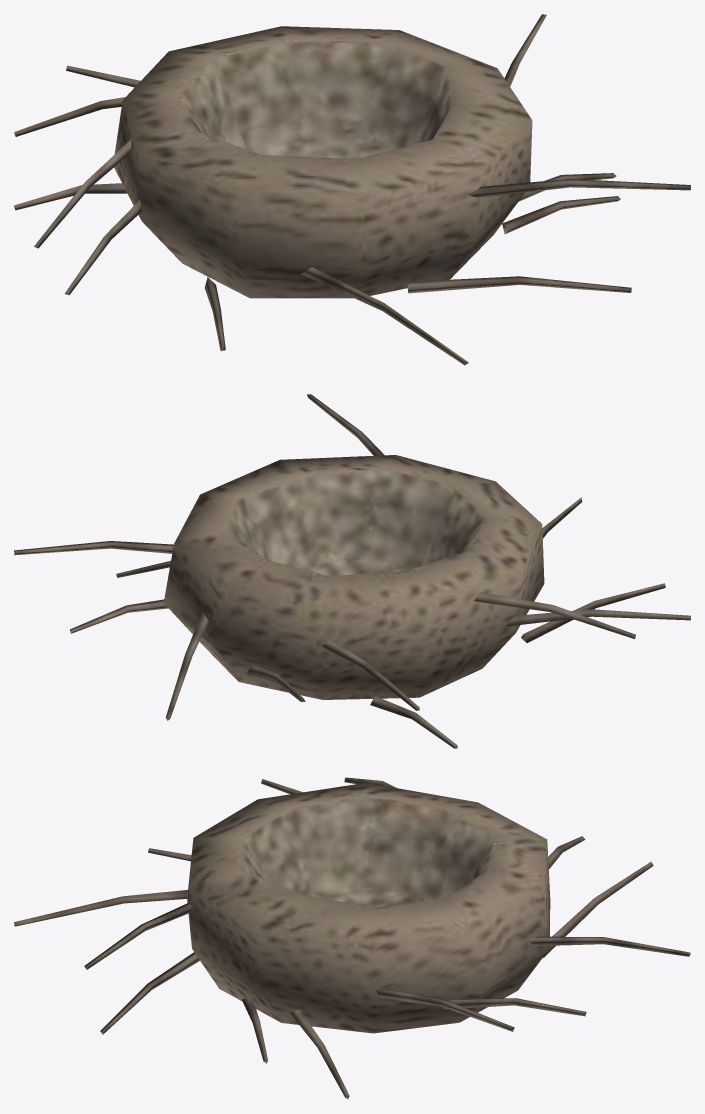
File: ninho_taca.glb
The picture shows the model from 3 angles, top to bottom: view 1: azimuth 30°, elevation 25°; view 2: azimuth 150°, elevation 25°; view 3: azimuth 270°, elevation 25°; orthographic projection. The views are drawn at different scales.
Visible parts, largest first — view 1: ninho_taca; view 2: ninho_taca; view 3: ninho_taca.
Boxes of the visible parts, bbox=[...] form: ninho_taca: bbox=[14, 14, 690, 365]; ninho_taca: bbox=[14, 394, 690, 748]; ninho_taca: bbox=[14, 777, 690, 1099].
Size of the model in its own units: 0.173 by 0.0405 by 0.1823.
Materials: 1 (1 with a texture image).
